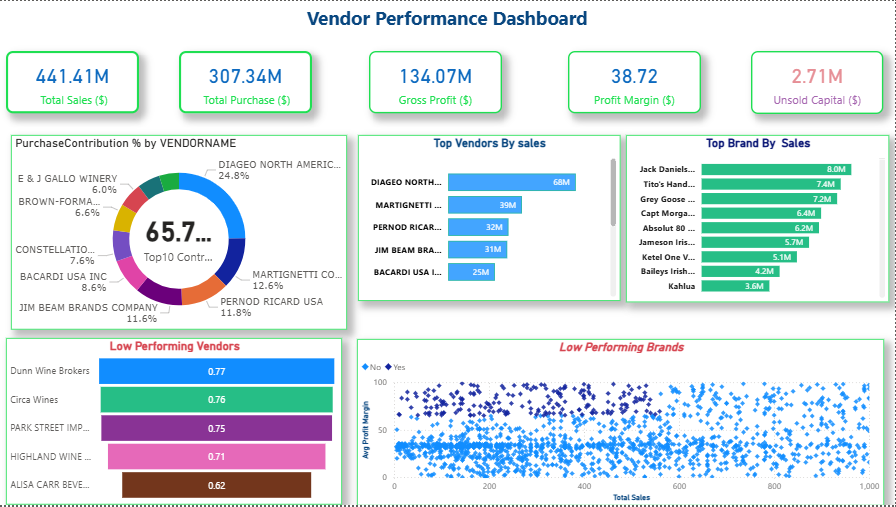

What the dashboard file says about the page in this screenshot:
{"tool":"powerbi","page":{"name":"Page 1","canvas":[1280,720],"ordinal":0},"visuals":[{"type":"card","fields":{"Values":["Sum(vendor_sales_summary.TotalSalesDollars)"]},"box":[10.2,71.7,190.2,89.3],"z":0},{"type":"card","fields":{"Values":["Sum(vendor_sales_summary.TotalPurchaseDollars)"]},"box":[257.4,71.6,189.9,89.5],"z":1000},{"type":"card","fields":{"Values":["Sum(vendor_sales_summary.GrossProfit)"]},"box":[528.5,71.6,189.9,89.5],"z":2000},{"type":"card","fields":{"Values":["Avg(vendor_sales_summary.ProfitMargin)"]},"box":[813.4,71.6,189.9,89.5],"z":3000},{"type":"card","fields":{"Values":["Sum(vendor_sales_summary.UnsoldCapital)"]},"box":[1074.5,71.9,189.4,89.5],"z":4000},{"type":"donutChart","fields":{"Y":["Sum(PurchaseContribution.PurchaseContribution%)"],"Category":["PurchaseContribution.VENDORNAME"]},"box":[17.6,191.7,480,278],"z":5000},{"type":"clusteredBarChart","title":"Top Vendors By sales","fields":{"Y":["Sum(vendor_sales_summary.TotalSalesDollars)"],"Category":["vendor_sales_summary.VENDORNAME"]},"box":[512.2,191.7,374.6,237.1],"z":6000},{"type":"clusteredBarChart","title":"Top Brand By  Sales","fields":{"Category":["vendor_sales_summary.DESCRIPTION"],"Y":["Sum(vendor_sales_summary.TotalSalesDollars)"]},"box":[895.6,191.7,376.1,238.5],"z":7000},{"type":"funnel","title":"Low Performing Vendors","fields":{"Y":["Sum(LowTurnoverVendor.AvgStockTurnOver)"],"Category":["LowTurnoverVendor.VENDORNAME"]},"box":[10,481.7,480,238.3],"z":8000},{"type":"scatterChart","title":"Low Performing Brands","fields":{"X":["Sum(BrandPerformance.TotalSales)"],"Y":["Sum(BrandPerformance.AvgProfitmargin)"],"Category":["BrandPerformance.DESCRIPTION"],"Series":["BrandPerformance.TargetBrand"]},"box":[511.7,482.2,752.7,237.6],"z":9000},{"type":"card","fields":{"Values":["vendor_sales_summary.Top10 Contribution %"]},"box":[201.2,291.4,109.3,88.5],"z":10000},{"type":"textbox","box":[0,0,1280.6,61.1],"z":11000}]}

Visuals, with their boxes in screenshot pixels (x1, y1, x2, y2), scaled from the page's 1280x720 canvas onto the 896x507 screenshot:
card - Sum(vendor_sales_summary.TotalSalesDollars): [7, 50, 140, 113]
card - Sum(vendor_sales_summary.TotalPurchaseDollars): [180, 50, 313, 113]
card - Sum(vendor_sales_summary.GrossProfit): [370, 50, 503, 113]
card - Avg(vendor_sales_summary.ProfitMargin): [569, 50, 702, 113]
card - Sum(vendor_sales_summary.UnsoldCapital): [752, 51, 885, 114]
donutChart - Sum(PurchaseContribution.PurchaseContribution%) x PurchaseContribution.VENDORNAME: [12, 135, 348, 331]
"Top Vendors By sales" clusteredBarChart: [359, 135, 621, 302]
"Top Brand By  Sales" clusteredBarChart: [627, 135, 890, 303]
"Low Performing Vendors" funnel: [7, 339, 343, 506]
"Low Performing Brands" scatterChart: [358, 340, 885, 506]
card - vendor_sales_summary.Top10 Contribution %: [141, 205, 217, 268]
textbox: [0, 0, 895, 43]
